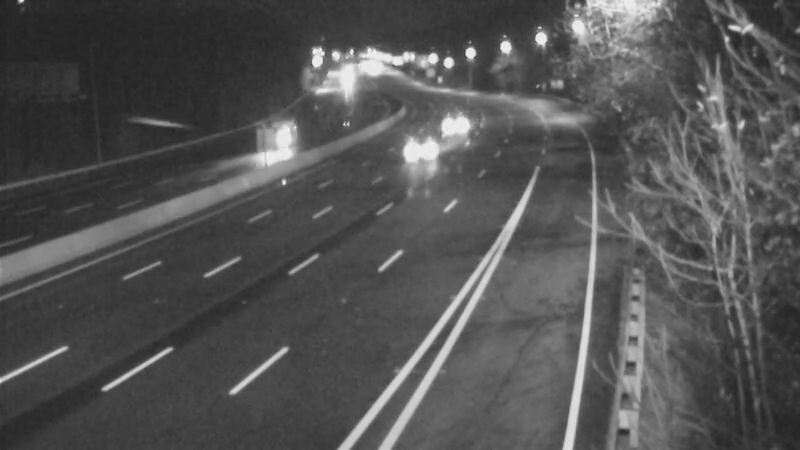vehicle: (378, 114, 458, 194), (426, 98, 476, 148), (255, 114, 305, 164)
